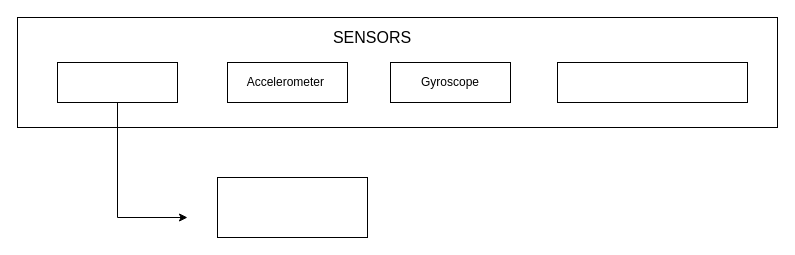
Some shapes in this 795 by 255 pixel diagram are drawn without their labels. The box of each missing label's shape, as (x1, y1, x2, y2) in pixels:
Galvanic Skin Response (GSR) Sensor: (556, 62, 748, 102)
Proximity Sensor: (56, 62, 178, 102)
